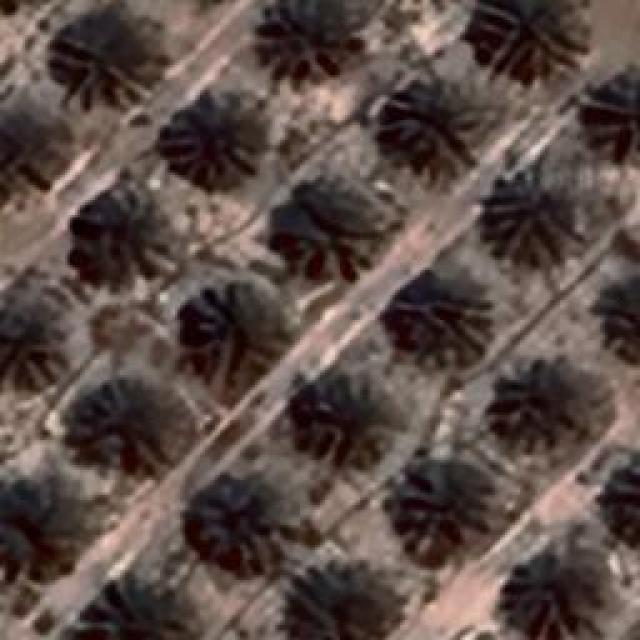PalmTree: (268, 168, 380, 272), (502, 542, 620, 640), (385, 78, 493, 178), (75, 382, 190, 472), (160, 90, 262, 188), (196, 472, 292, 572), (192, 268, 276, 382), (388, 460, 490, 552), (255, 0, 360, 88), (492, 364, 600, 448), (480, 172, 575, 266), (291, 557, 396, 640), (51, 16, 159, 96), (474, 0, 587, 72), (0, 97, 76, 199), (290, 376, 390, 452), (82, 188, 162, 280), (0, 491, 75, 584), (391, 284, 484, 358), (0, 278, 58, 384), (94, 587, 187, 640), (585, 78, 640, 160), (600, 451, 640, 551), (600, 267, 640, 366)
